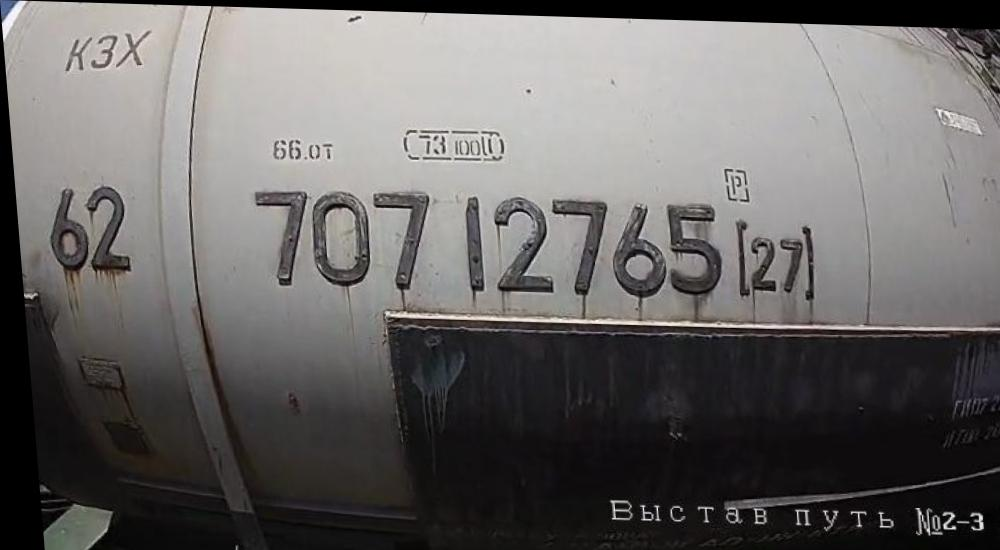Wagon-number: (245, 180, 726, 300)
